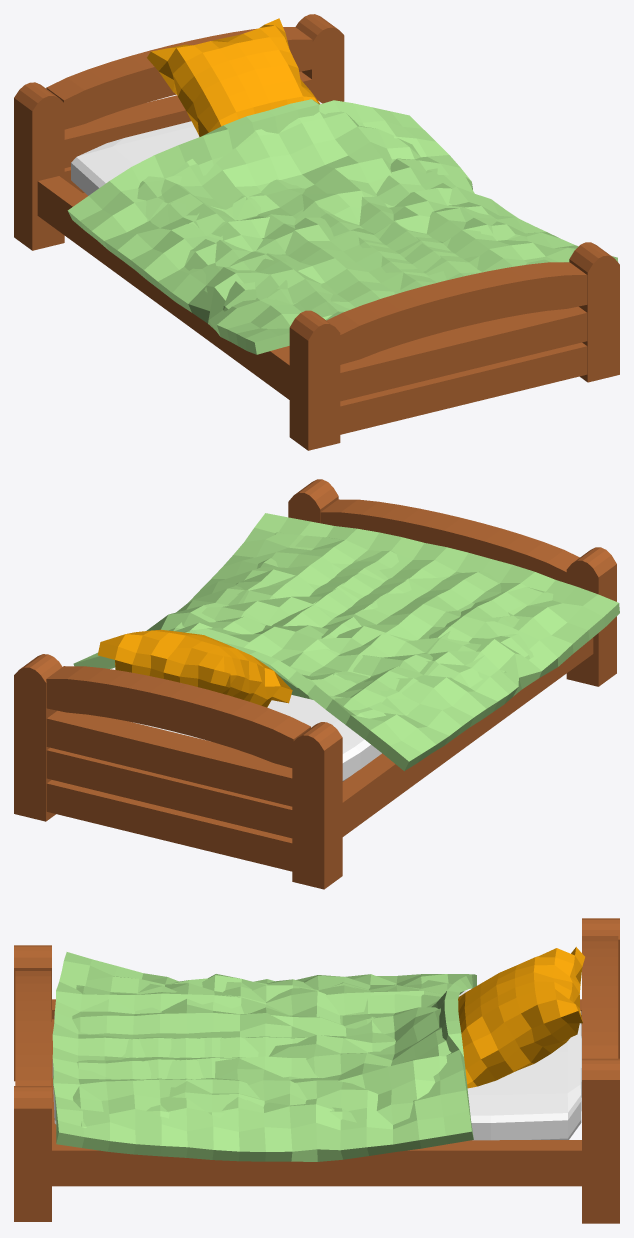
Rendered from bed-e0cad8b4.glb.
3 views of the same model, one above another, from view 1: azimuth 30°, elevation 25°; view 2: azimuth 150°, elevation 25°; view 3: azimuth 270°, elevation 25° (orthographic). The views are drawn at different scales.
Parts seen in each view (by area): view 1: Plane.002_5, Cube.006_4, Cube.001_2, Cube.002_3; view 2: Cube.006_4, Plane.002_5, Cube.001_2, Cube.002_3; view 3: Plane.002_5, Cube.006_4, Cube.001_2, Cube.002_3.
Part boxes in pixels (x1,y1,x2,y2): Plane.002_5: (67,99,618,354); Cube.006_4: (14,14,619,450); Cube.001_2: (147,18,319,136); Cube.002_3: (71,101,322,195); Cube.006_4: (14,479,616,889); Plane.002_5: (73,513,619,771); Cube.001_2: (98,629,292,707); Cube.002_3: (133,695,381,781); Plane.002_5: (52,952,476,1161); Cube.006_4: (14,918,619,1223); Cube.001_2: (458,947,584,1088); Cube.002_3: (52,990,581,1140).
Size of the model in its own units: 5.7 by 2.74 by 8.08.
